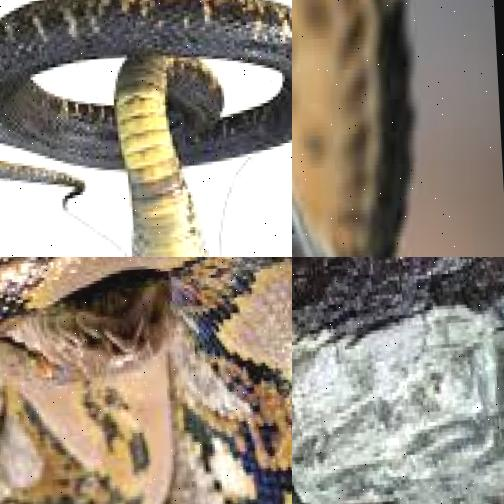snake: (0, 0, 292, 257), (0, 257, 292, 504), (292, 257, 504, 504), (292, 0, 452, 257)
